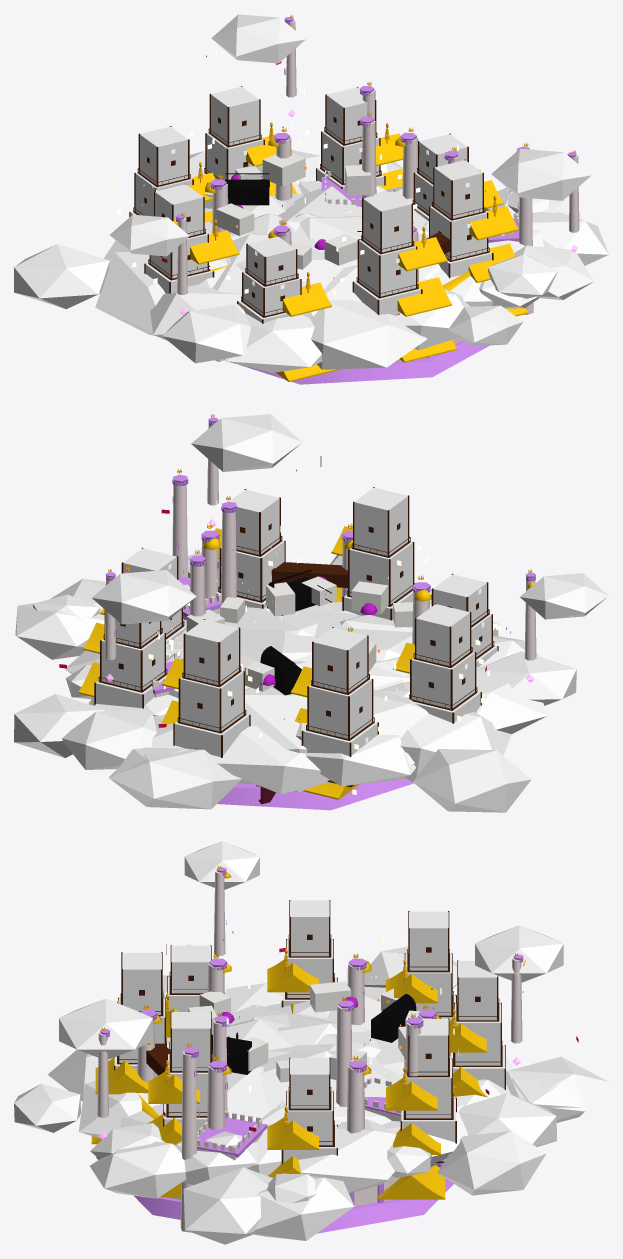
Rendered from fairytale_castle_med_compressed (5).glb.
3 renders of one model, top to bottom at view 1: azimuth 30°, elevation 25°; view 2: azimuth 150°, elevation 25°; view 3: azimuth 270°, elevation 25°, orthographic. The views are drawn at different scales.
Size of the model in its own units: 5749639 by 2351550 by 5372886.
